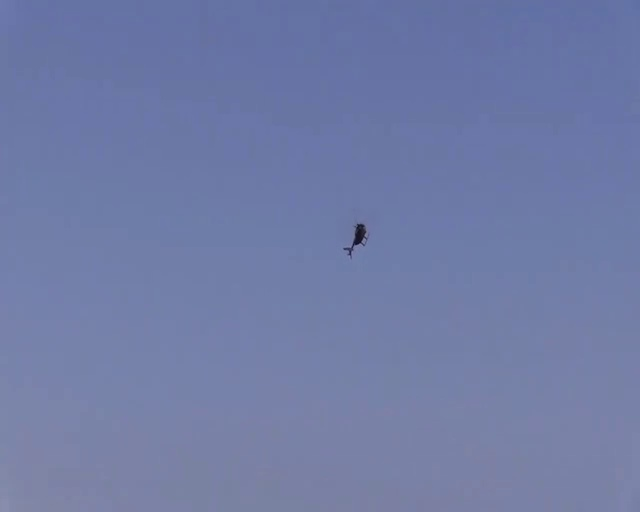HELICOPTER: (343, 221, 369, 258)
